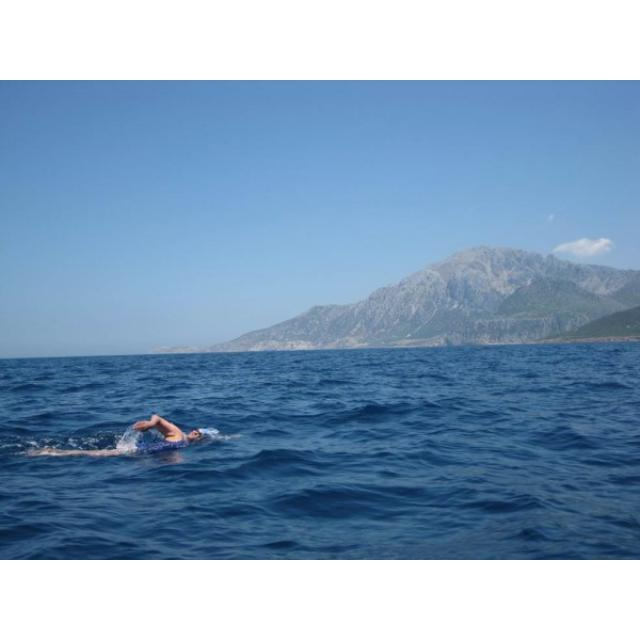human: (28, 412, 243, 464)
